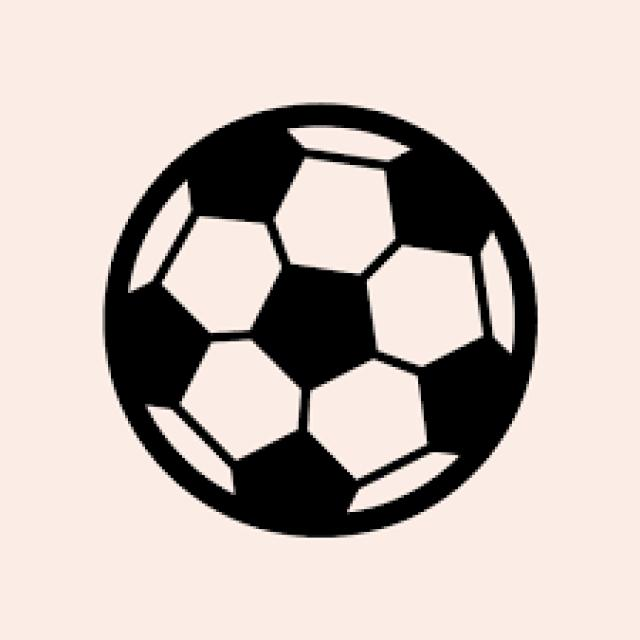football: (105, 100, 540, 540)
